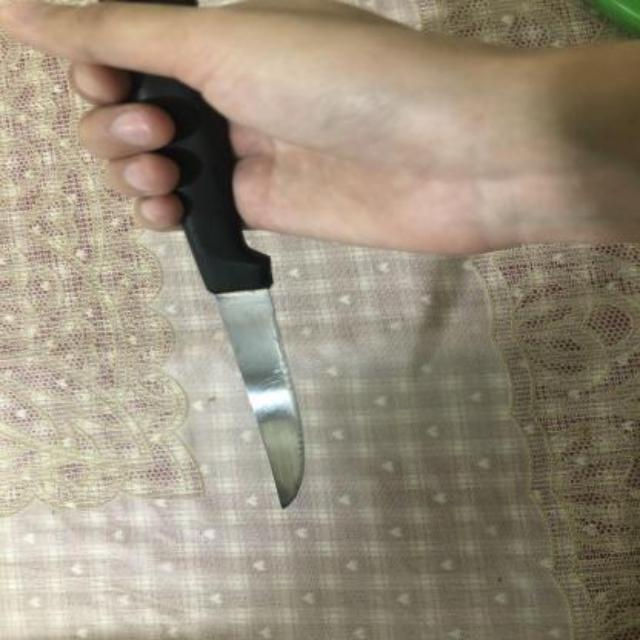Knife: (107, 2, 303, 510)
